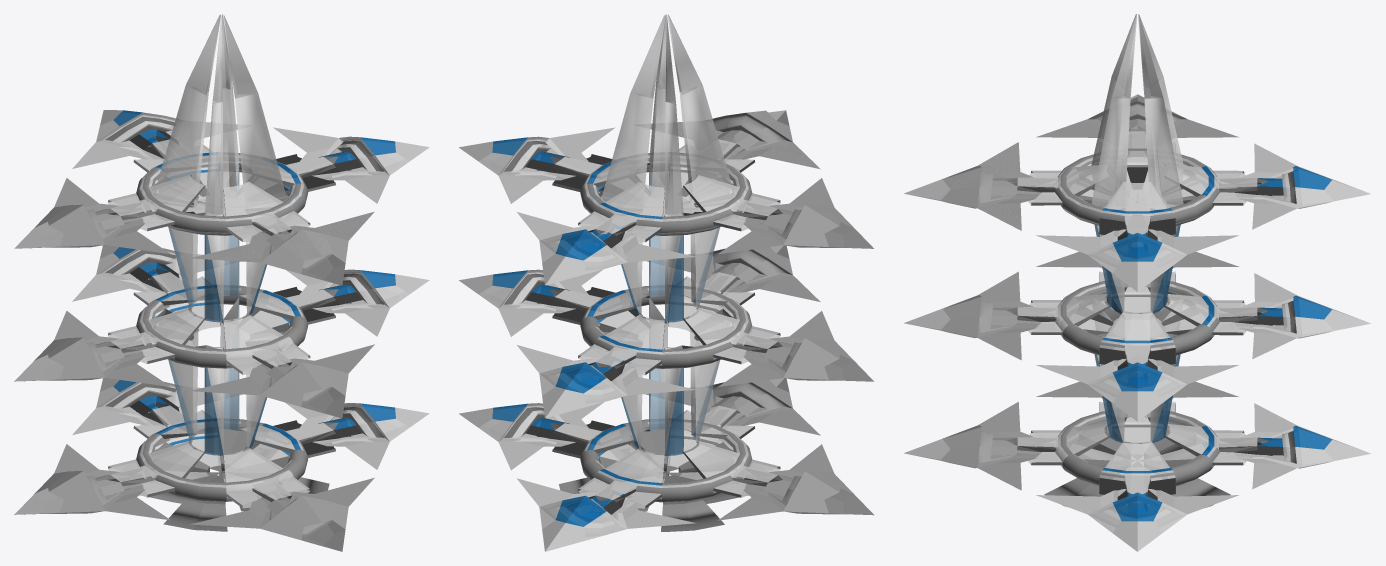
File: vrSpaceHub_AirShip.fbx
The picture shows the model from 3 angles, left to right: view 1: azimuth 30°, elevation 25°; view 2: azimuth 150°, elevation 25°; view 3: azimuth 270°, elevation 25°; orthographic projection. The views are drawn at different scales.
Visible parts, largest first — view 1: polySurface89, polySurface48, polySurface53, polySurface43, polySurface45, polySurface42, polySurface50, polySurface94, polySurface92, polySurface52, polySurface90, polySurface93 (+1 smaller); view 2: polySurface89, polySurface91, polySurface93, polySurface92, polySurface45, polySurface42, polySurface50, polySurface94, polySurface53, polySurface43, polySurface48, polySurface52 (+1 smaller); view 3: polySurface89, polySurface94, polySurface52, polySurface90, polySurface43, polySurface53, polySurface48, polySurface93, polySurface92, polySurface91, polySurface50, polySurface42 (+1 smaller).
Boxes of the visible parts, bbox=[...] form: polySurface89: bbox=[108, 14, 335, 531]; polySurface48: bbox=[190, 344, 374, 418]; polySurface53: bbox=[190, 211, 374, 285]; polySurface43: bbox=[190, 477, 374, 551]; polySurface45: bbox=[14, 311, 170, 386]; polySurface42: bbox=[14, 444, 170, 520]; polySurface50: bbox=[14, 178, 170, 254]; polySurface94: bbox=[273, 127, 429, 203]; polySurface92: bbox=[72, 110, 248, 168]; polySurface52: bbox=[285, 402, 429, 469]; polySurface90: bbox=[286, 269, 429, 336]; polySurface93: bbox=[72, 378, 242, 434]; polySurface89: bbox=[552, 14, 780, 531]; polySurface91: bbox=[517, 345, 696, 418]; polySurface93: bbox=[517, 478, 696, 551]; polySurface92: bbox=[517, 212, 696, 285]; polySurface45: bbox=[717, 311, 873, 387]; polySurface42: bbox=[718, 444, 873, 520]; polySurface50: bbox=[718, 178, 873, 254]; polySurface94: bbox=[459, 127, 615, 203]; polySurface53: bbox=[637, 110, 820, 169]; polySurface43: bbox=[644, 378, 820, 435]; polySurface48: bbox=[646, 245, 820, 301]; polySurface52: bbox=[459, 402, 603, 470]; polySurface89: bbox=[1012, 14, 1265, 507]; polySurface94: bbox=[1036, 229, 1238, 291]; polySurface52: bbox=[1036, 489, 1238, 551]; polySurface90: bbox=[1036, 358, 1238, 421]; polySurface43: bbox=[904, 402, 1041, 490]; polySurface53: bbox=[904, 142, 1041, 230]; polySurface48: bbox=[904, 271, 1041, 360]; polySurface93: bbox=[1233, 403, 1371, 489]; polySurface92: bbox=[1233, 143, 1370, 229]; polySurface91: bbox=[1233, 273, 1370, 358]; polySurface50: bbox=[1036, 94, 1238, 138]; polySurface42: bbox=[1036, 381, 1238, 399].
Bounding box in the file's own units: 399 × 450 × 398.
